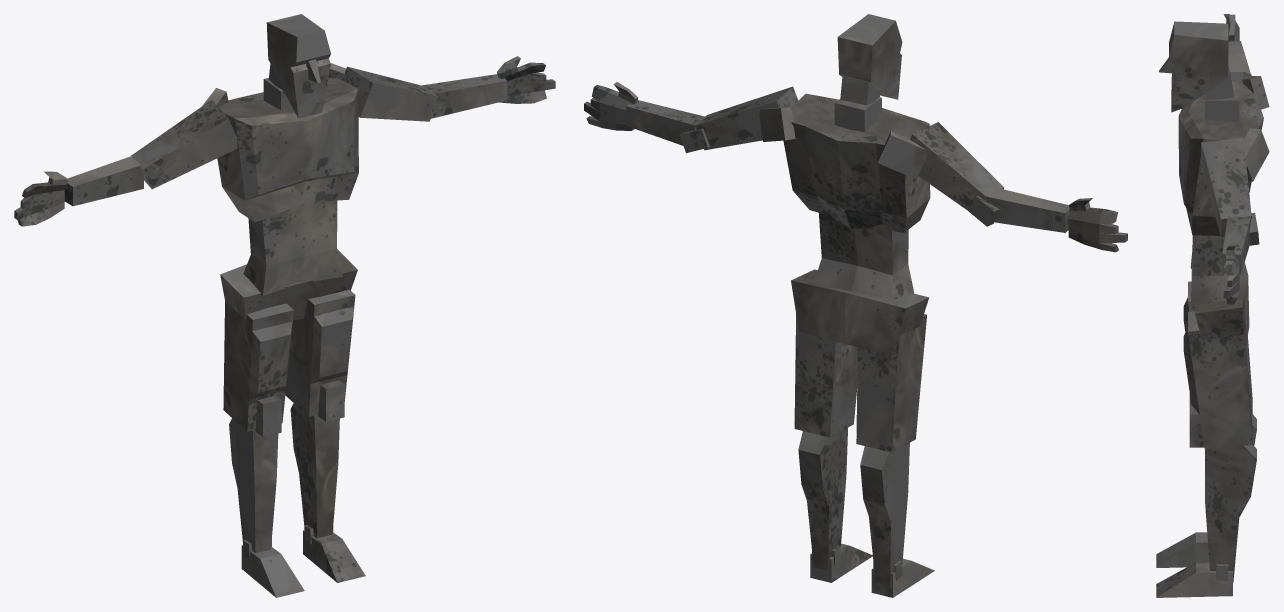
File: Statue 2 .fbx
3 renders of one model, left to right at view 1: azimuth 30°, elevation 25°; view 2: azimuth 150°, elevation 25°; view 3: azimuth 270°, elevation 25°, orthographic.
Parts seen in each view (by area): view 1: torso; view 2: torso; view 3: torso.
Boxes of the visible parts, <box> form: torso: <box>14,14,555,597</box>; torso: <box>584,14,1127,597</box>; torso: <box>1156,14,1269,597</box>.
Size of the model in its own units: 942 by 914 by 171.
1 material, 1 textured.
